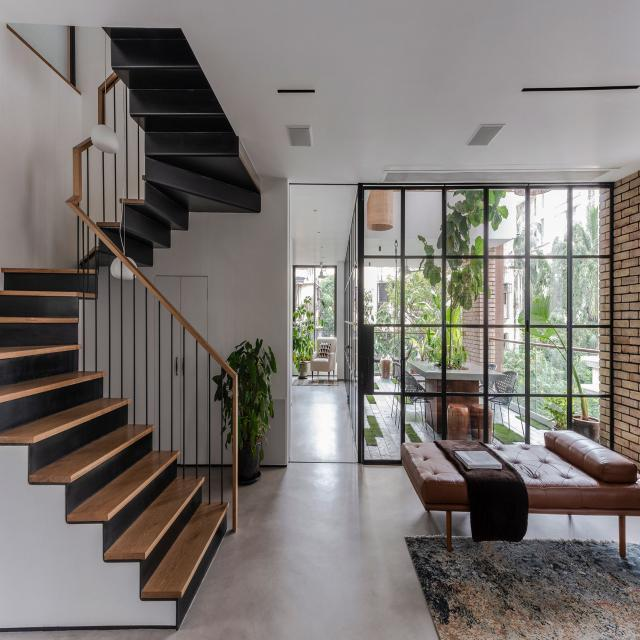stairs: (1, 266, 230, 630)
